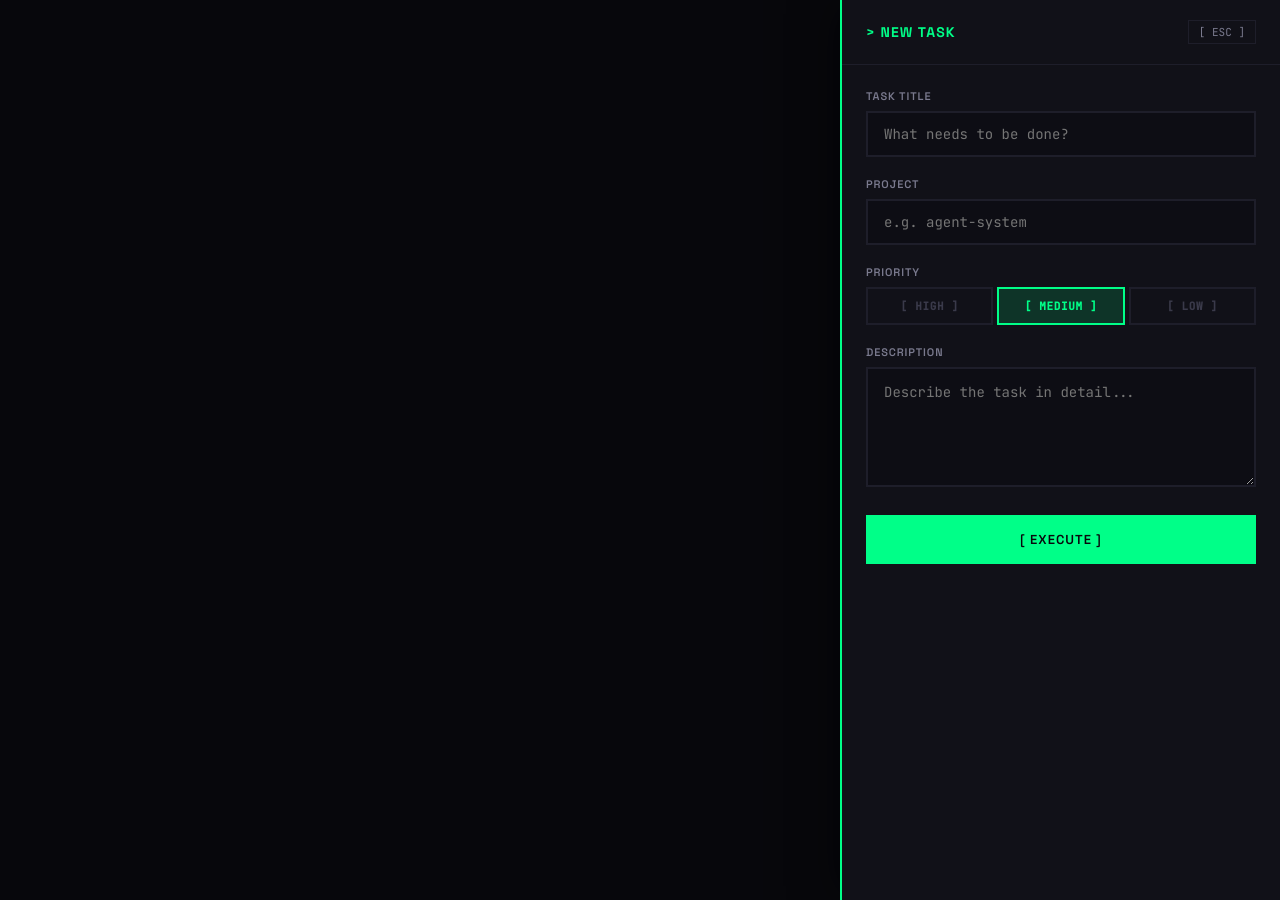
Test: TaskPanel › should show success feedback after submission
Type "Task" into the field with placeholder "What needs to be done?" at coordinates (1061, 134), box [866, 111, 1256, 157]
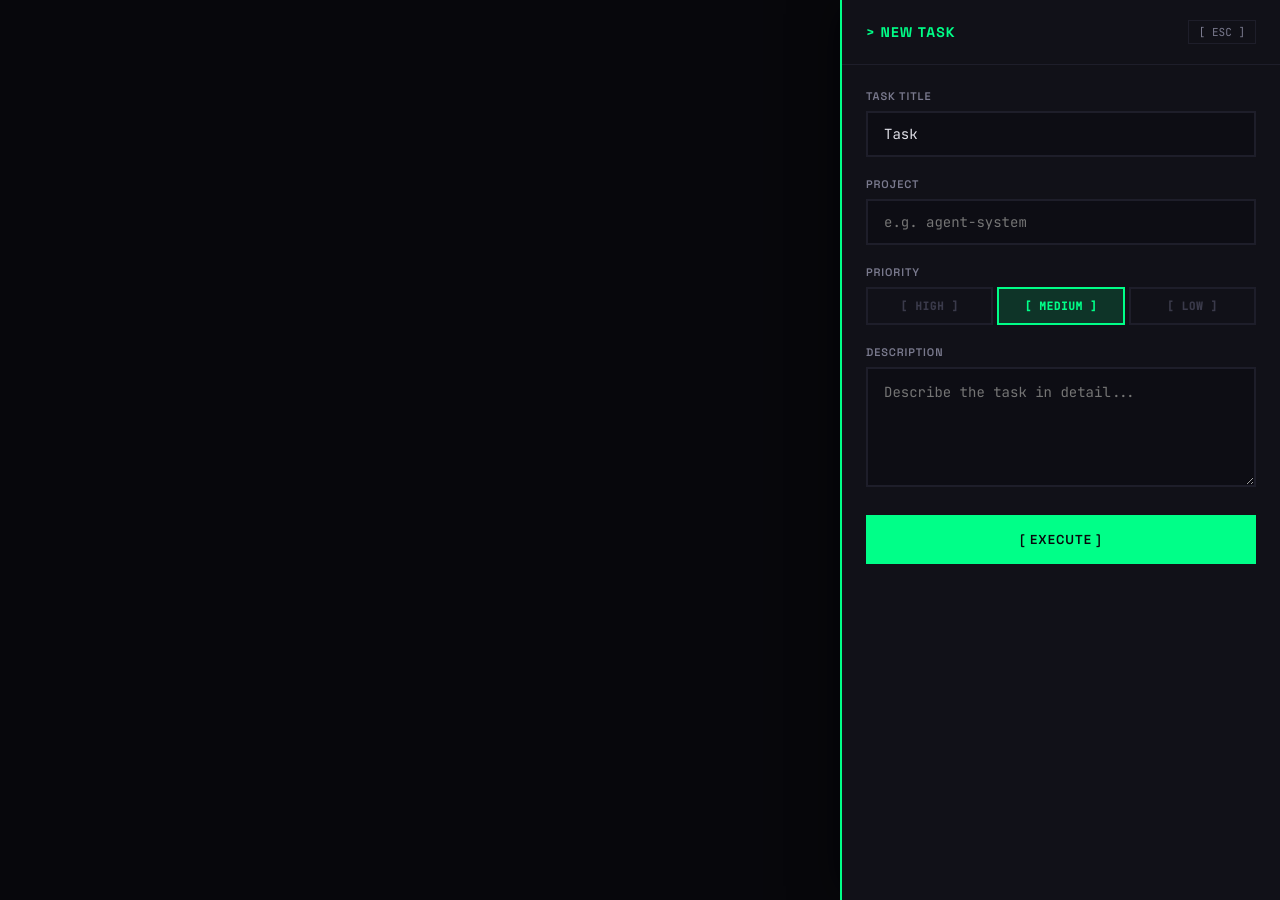
Type "Project" into the field with placeholder "e.g. agent-system" at coordinates (1061, 222), box [866, 199, 1256, 245]
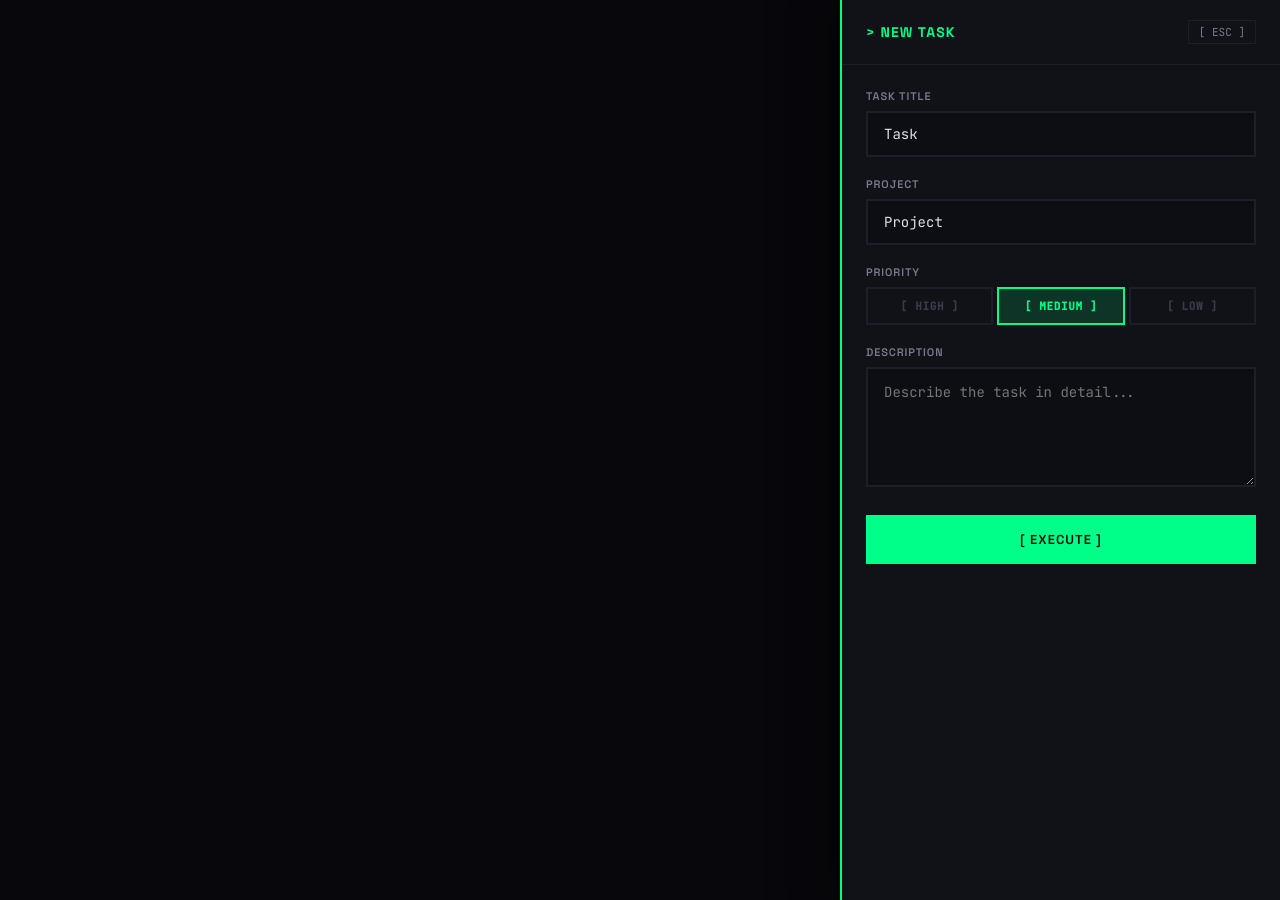
Type "Description" into the text box with placeholder "Describe the task in detail..." at coordinates (1061, 427), box [866, 367, 1256, 487]
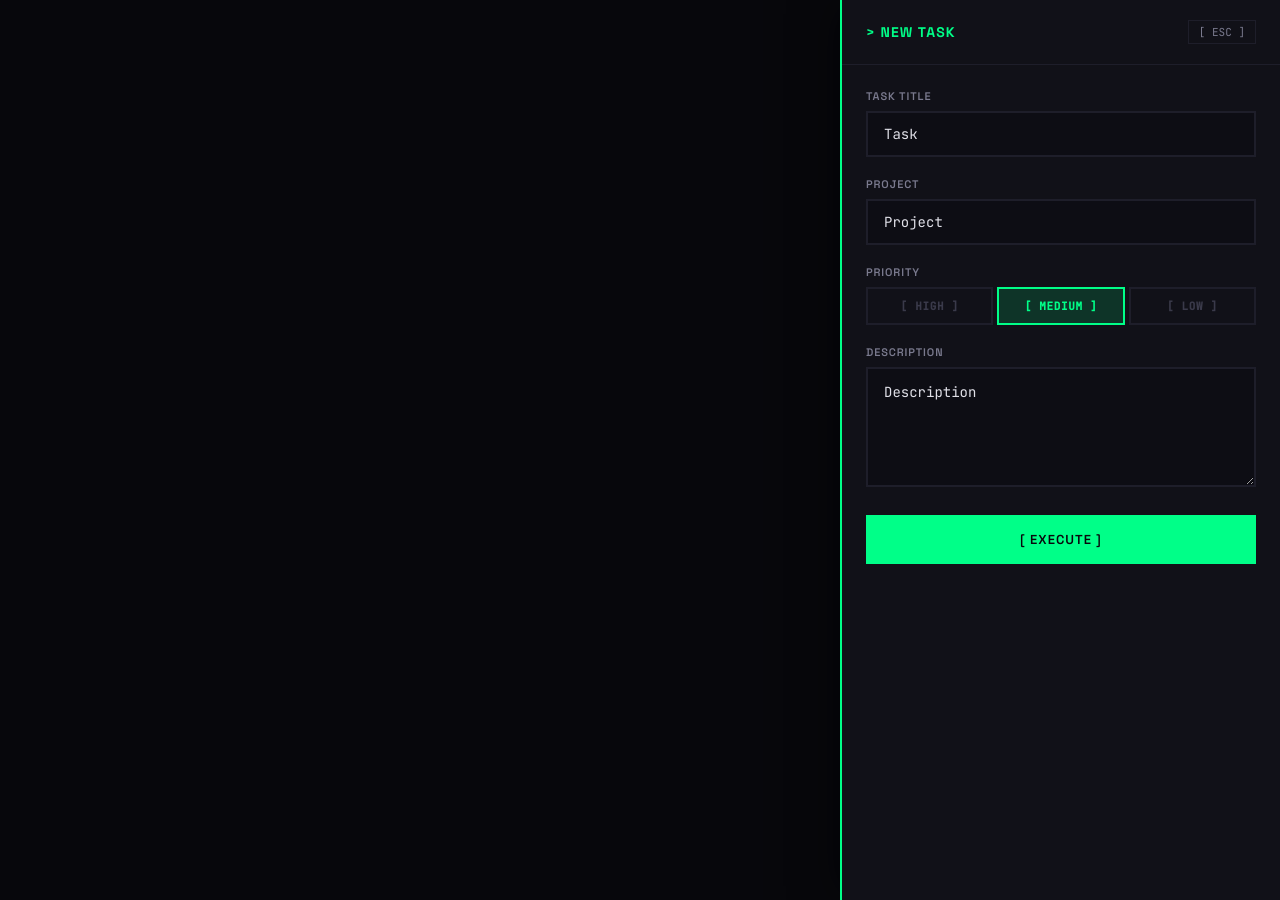
Click the button "[ EXECUTE ]" at coordinates (1061, 540), box [866, 515, 1256, 564]
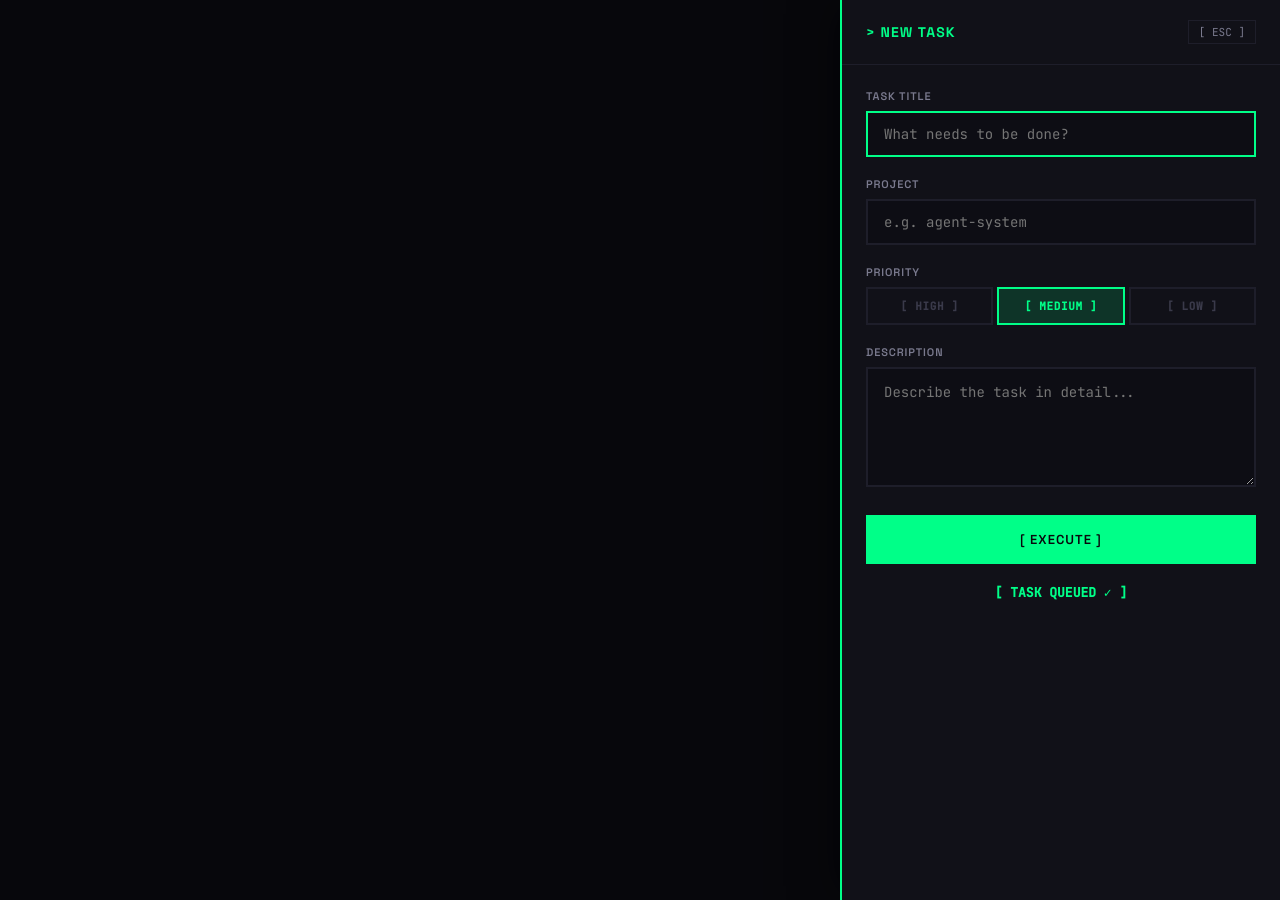
Expected: the text "[ TASK QUEUED ✓ ]" is shown, [995, 584, 1127, 601]
